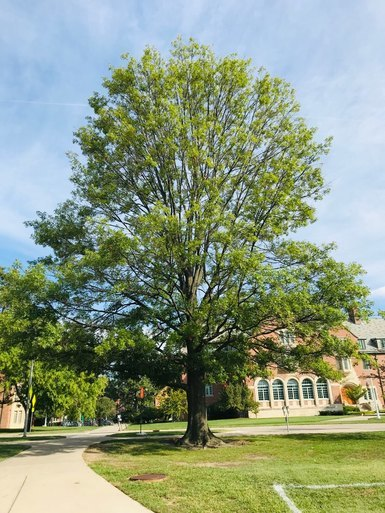tree: (22, 33, 375, 450)
